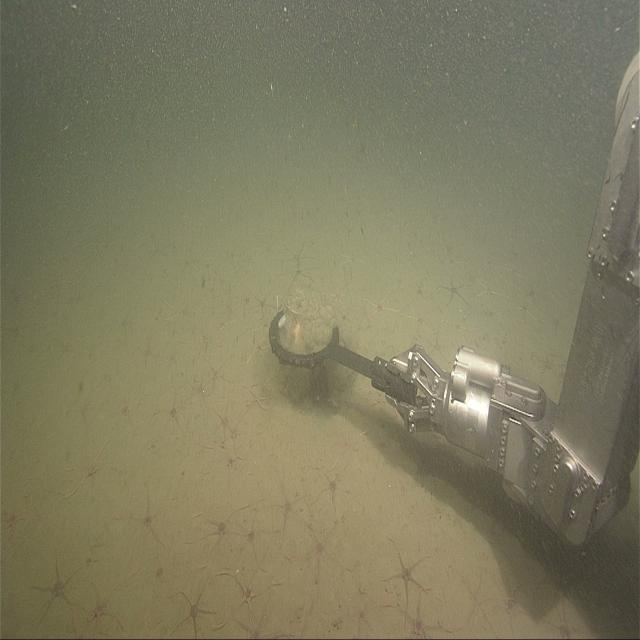Brittle Star: (220, 560, 280, 638), (26, 550, 85, 626), (384, 529, 431, 618), (121, 482, 173, 558), (176, 578, 218, 640)
